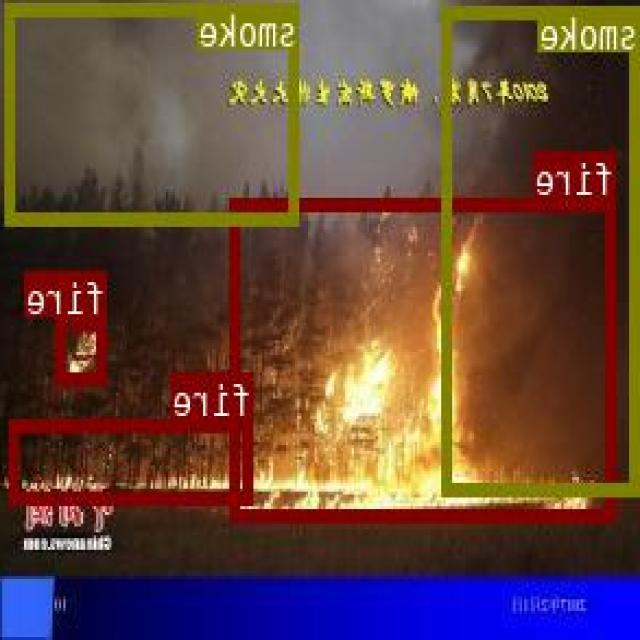fire: (232, 197, 618, 518), (13, 418, 255, 501), (58, 316, 108, 384)
smoke: (443, 4, 640, 493), (7, 2, 301, 224)
